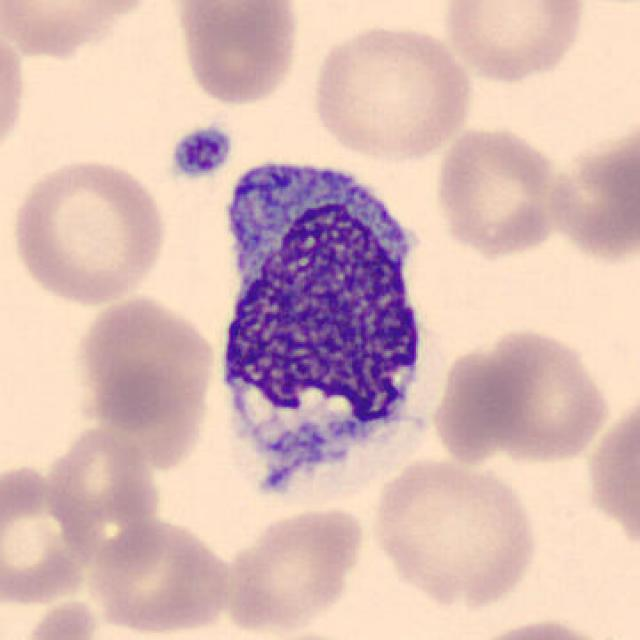Monocyte: (202, 138, 444, 504)
Platelets: (166, 124, 237, 184)
RBC: (366, 453, 542, 612), (434, 323, 615, 467), (7, 152, 171, 306), (308, 18, 477, 162), (69, 292, 219, 433), (219, 501, 368, 636), (430, 122, 571, 259), (84, 513, 238, 638), (50, 425, 167, 580), (0, 458, 107, 610), (542, 116, 638, 268), (171, 0, 304, 108), (439, 0, 590, 85), (0, 0, 164, 60), (12, 596, 150, 640), (455, 613, 627, 640), (0, 19, 30, 170), (572, 0, 638, 14)
